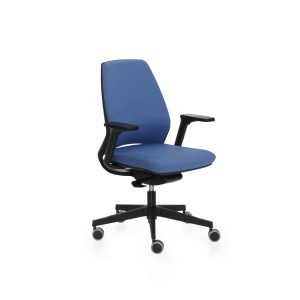chair: (92, 59, 221, 254)
